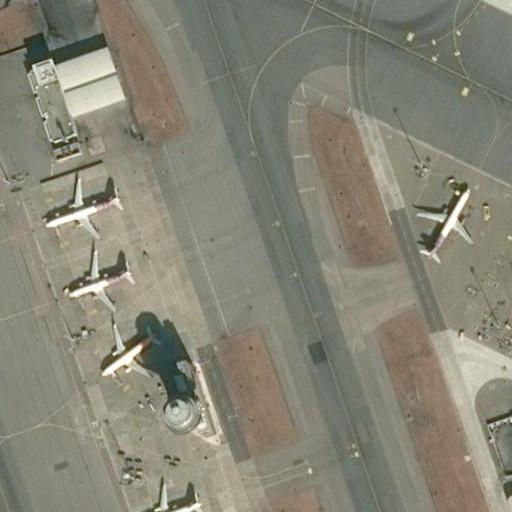Aircraft: (26, 160, 130, 235), (404, 182, 481, 261), (65, 243, 140, 315), (90, 321, 163, 386), (127, 475, 208, 512), (508, 248, 512, 327)
